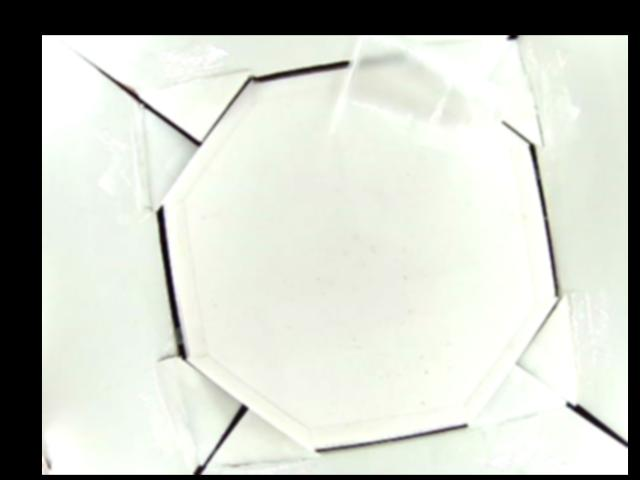Cup: (329, 36, 505, 158)
